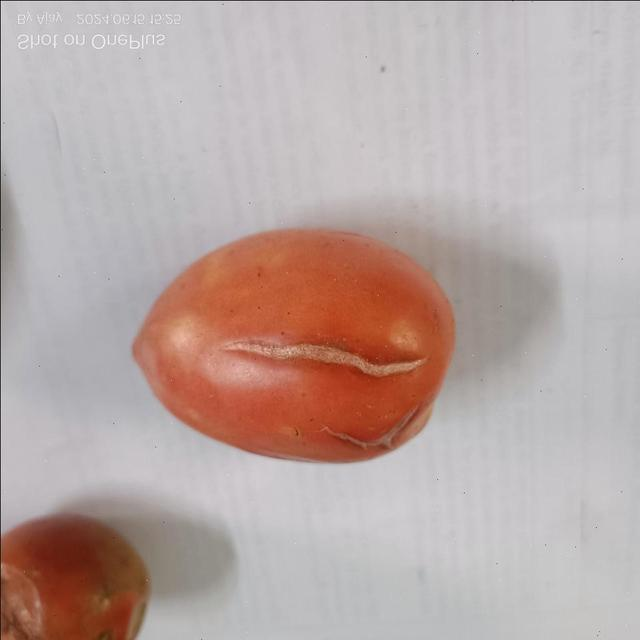Cracking Fruit: (96, 113, 353, 373)
